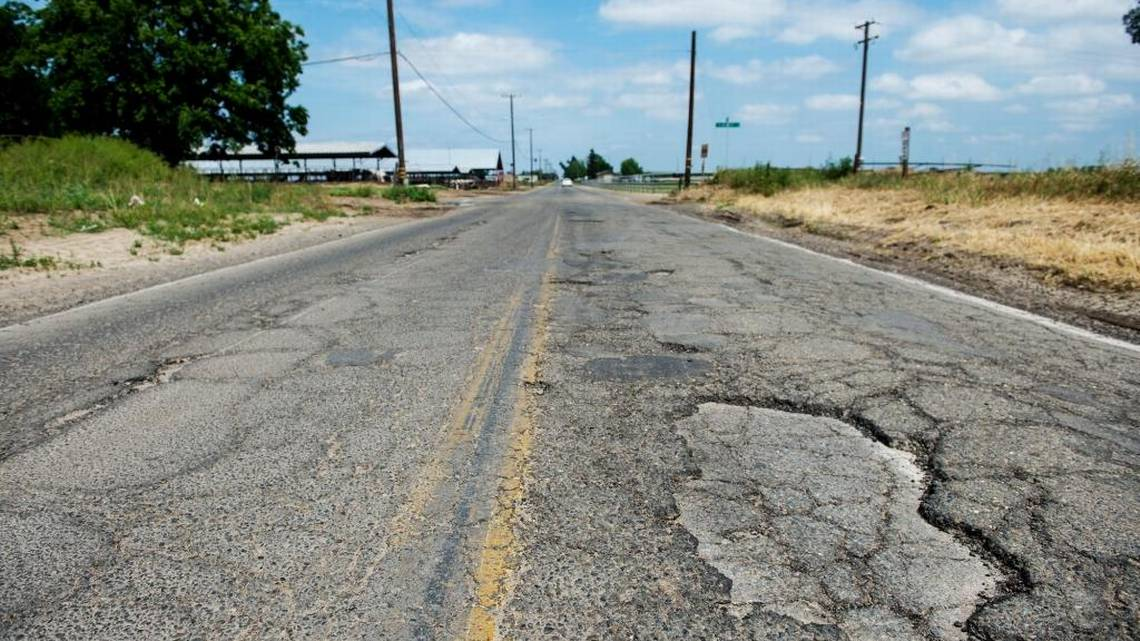pothole: (636, 335, 1017, 629), (22, 300, 364, 496), (539, 254, 597, 300), (560, 213, 615, 234), (553, 192, 585, 224)
